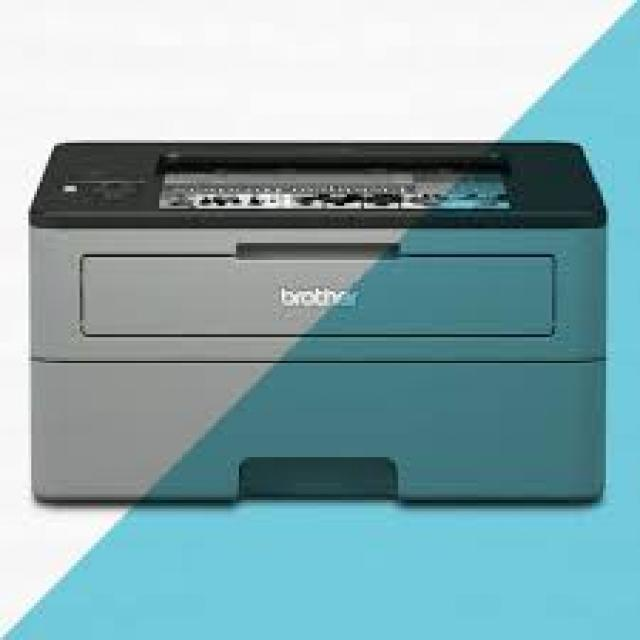printer: (14, 122, 624, 544)
